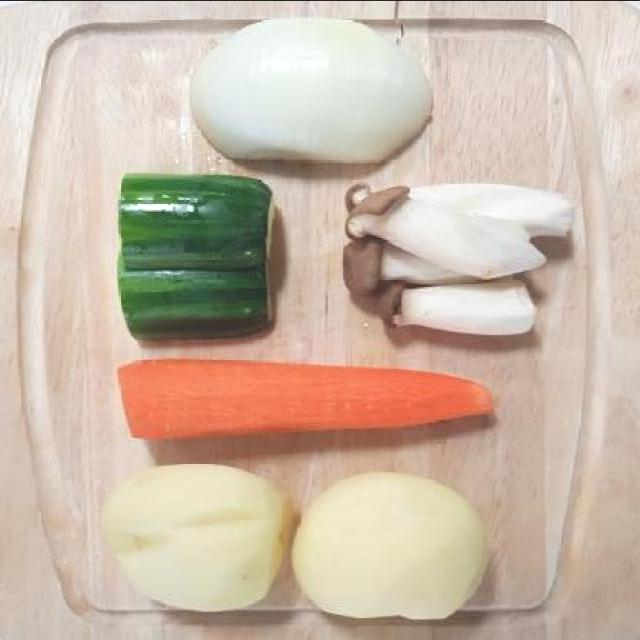carrot: (117, 357, 494, 440)
onion: (186, 15, 438, 169)
potato: (292, 472, 494, 621), (97, 466, 297, 612)
